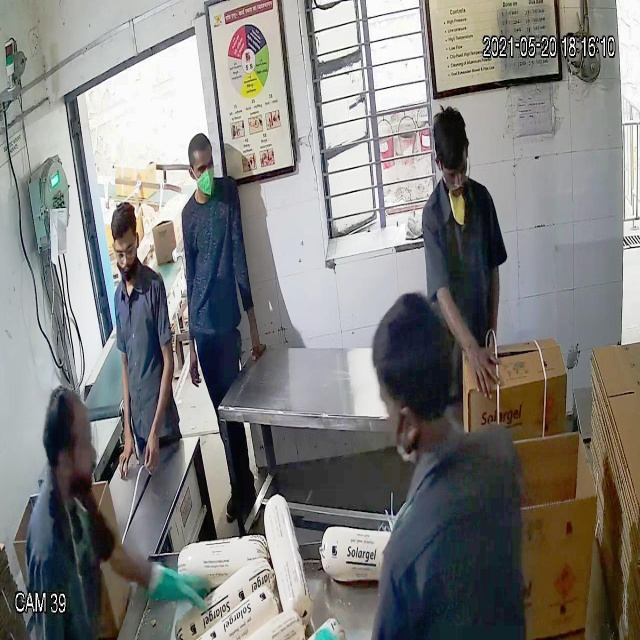Gafas: (435, 154, 475, 193), (110, 236, 139, 265)
